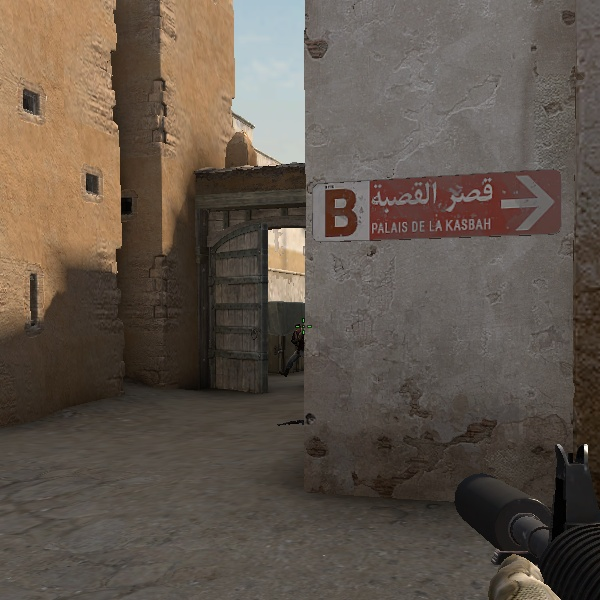t_body: (283, 322, 308, 375)
t_head: (294, 323, 302, 334)
